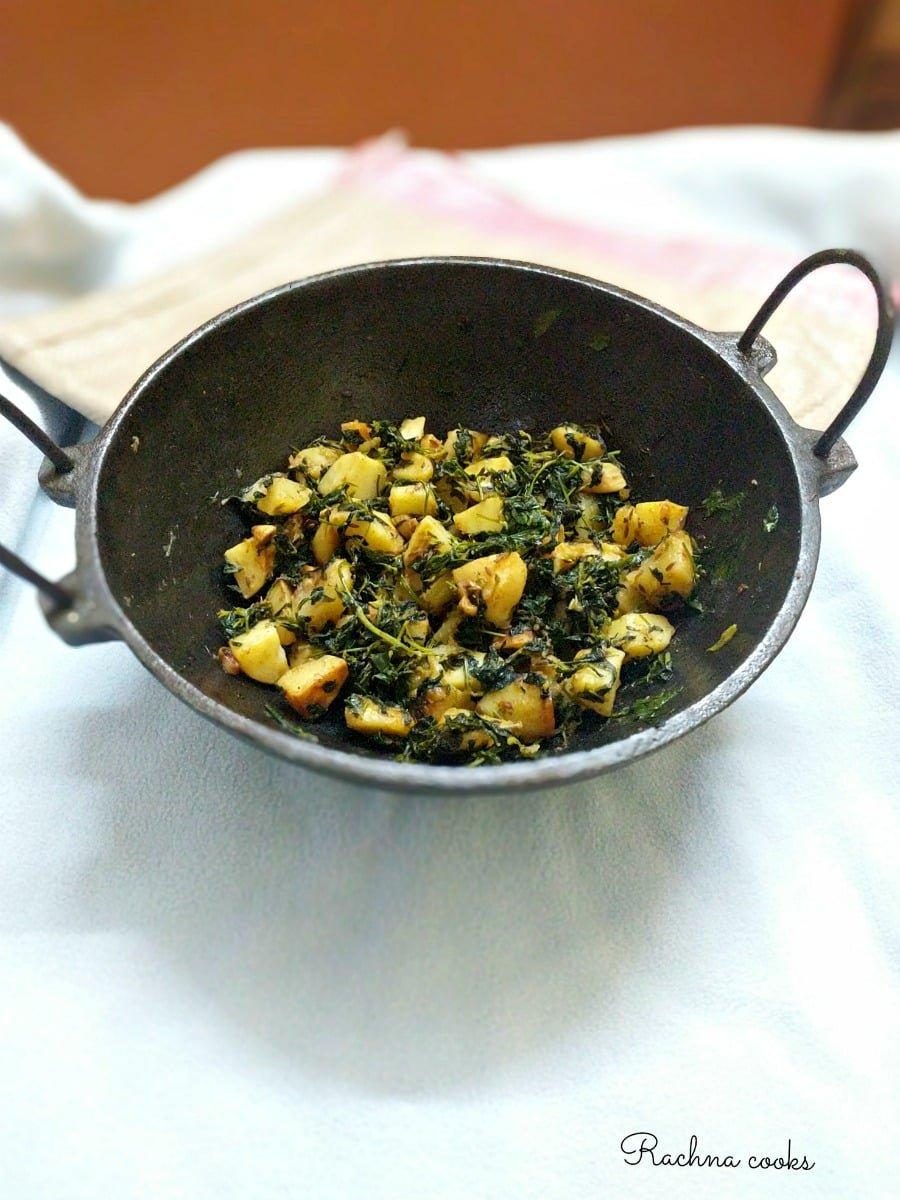Naan: (30, 238, 884, 790)
